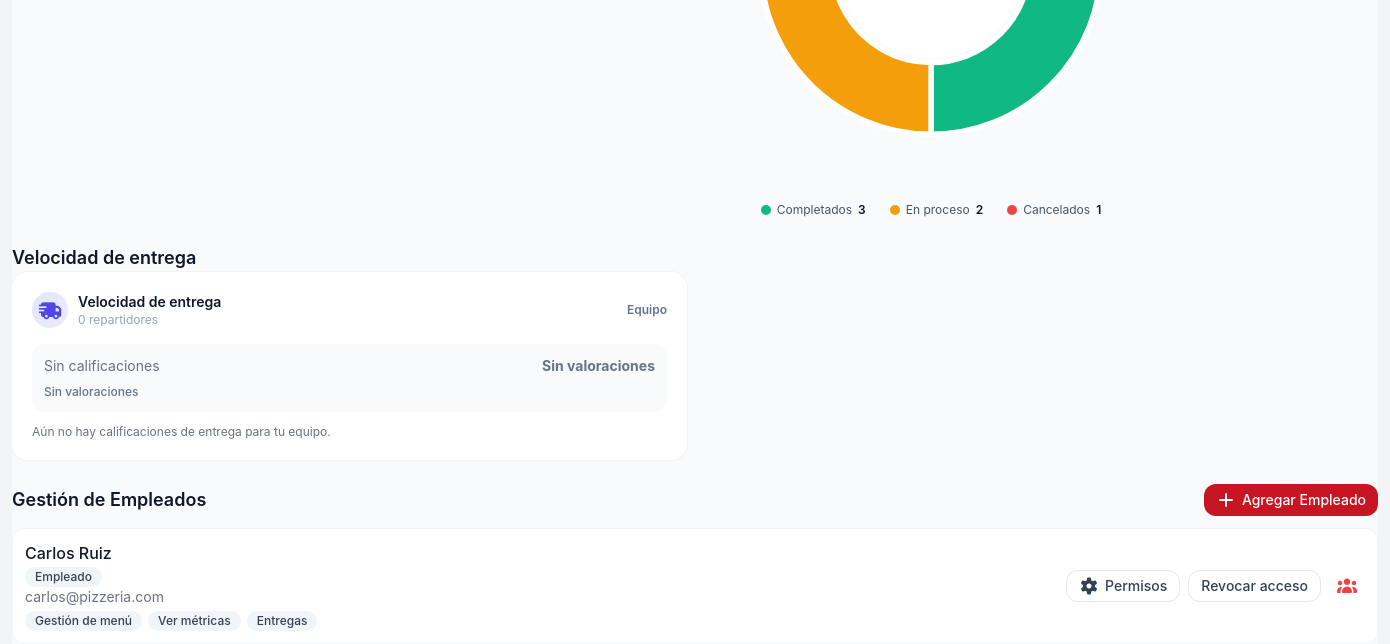
it: MerchantResumenPage › gestión de empleados › revoca el acceso del empleado
The image size is (1390, 644).
(page scrolled)
Check: the list item with test id "staff-row" is shown, box [13,529,1377,643]
What coordinates should you click on to do the following:
click the button with test id "revoke-staff-s-1"
I would click on:
 (1255, 586)
Its box is [1188,570,1321,602].
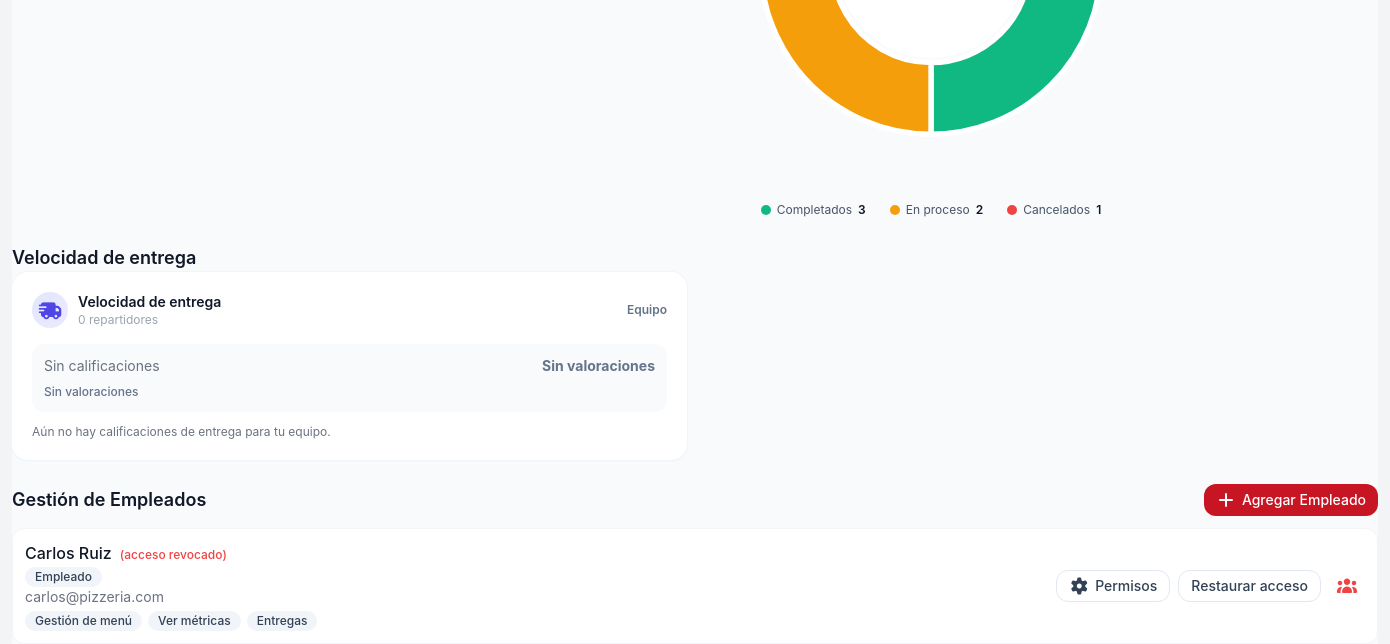
Check: the text "(acceso revocado)" is shown, box [120,547,227,562]
